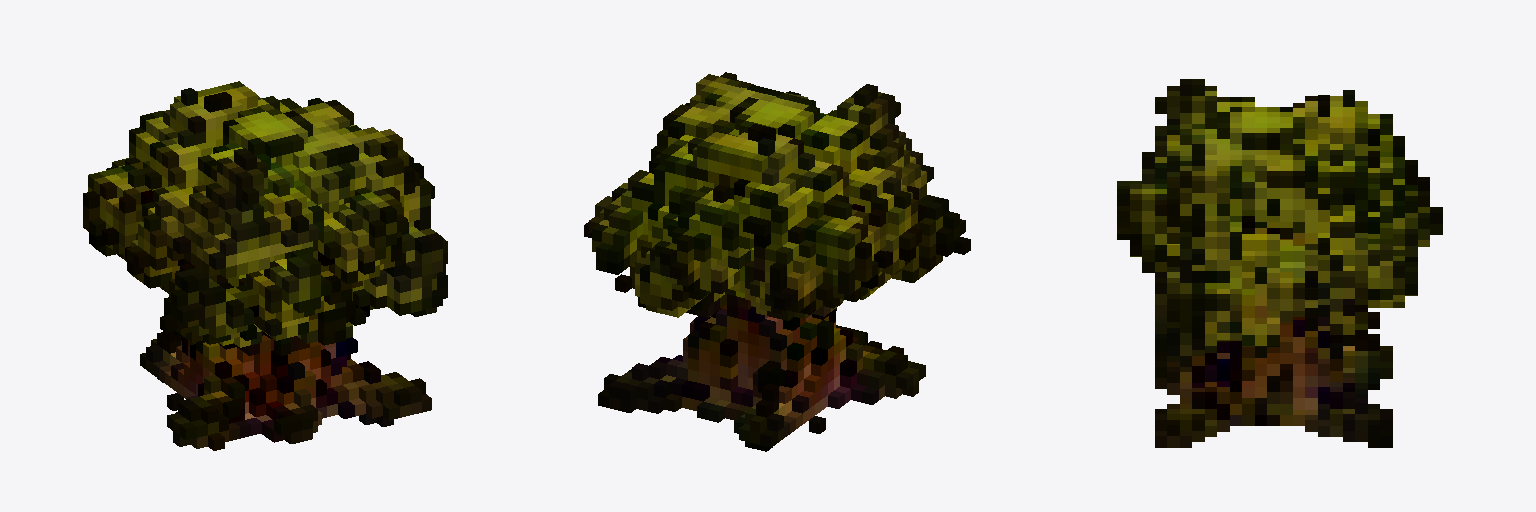
The model's file is iter_60.obj.
3 views of the same model, side by side, from view 1: azimuth 30°, elevation 25°; view 2: azimuth 150°, elevation 25°; view 3: azimuth 270°, elevation 25° (orthographic).
Parts seen in each view (by area): view 1: iter_60; view 2: iter_60; view 3: iter_60.
Part boxes in pixels (x1,y1,x2,y2): iter_60: (83,81,447,450); iter_60: (584,72,970,451); iter_60: (1117,79,1442,447).
Bounding box in the file's own units: 2.7 × 2.6 × 2.6.